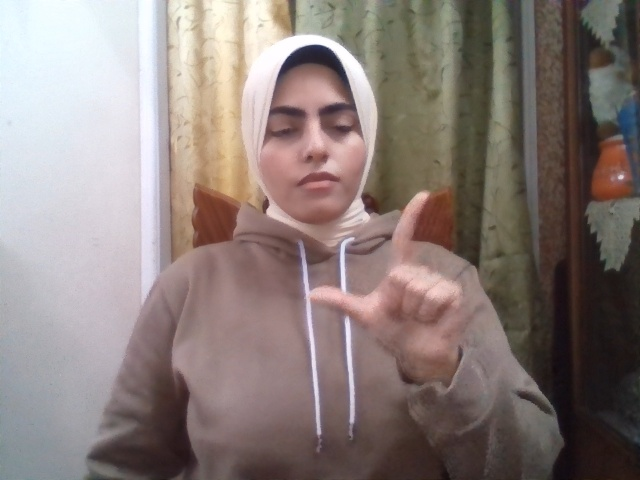L: (308, 189, 461, 364)
